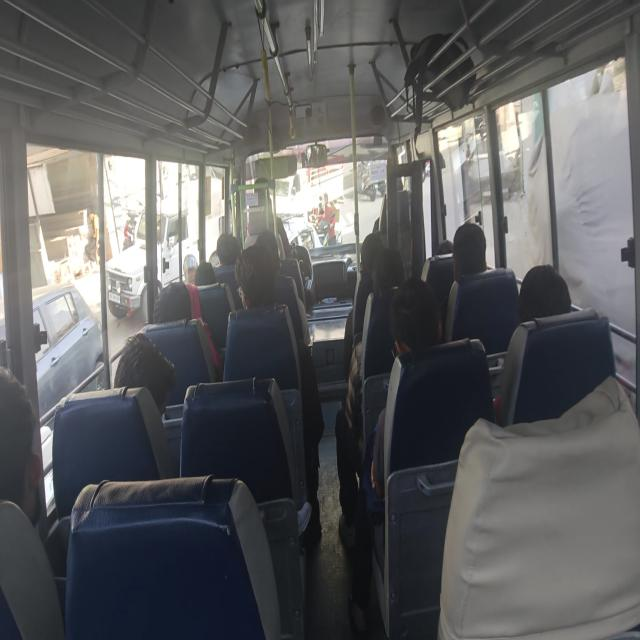person: (348, 276, 442, 636), (224, 242, 324, 543), (336, 246, 406, 544), (0, 364, 66, 637), (369, 276, 441, 498), (495, 263, 572, 422), (0, 364, 44, 528), (343, 232, 384, 376), (113, 332, 176, 419), (444, 221, 489, 341), (517, 263, 572, 323), (452, 221, 487, 281), (83, 208, 99, 270), (317, 192, 336, 244), (216, 232, 240, 266), (193, 260, 216, 286), (182, 253, 198, 285)
